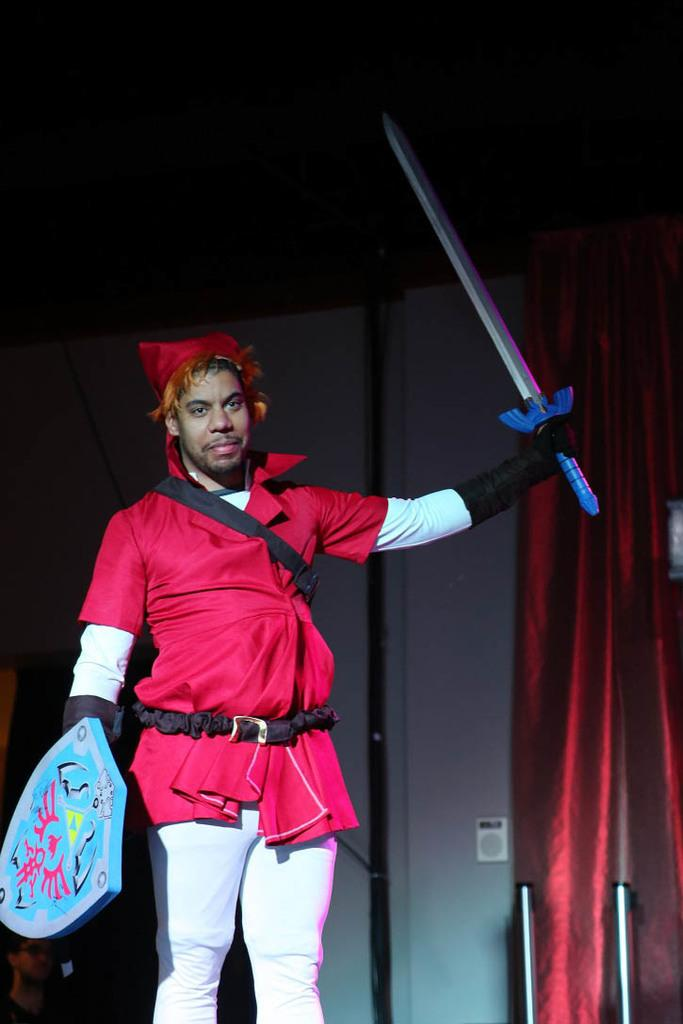Sword: (383, 106, 621, 534)
